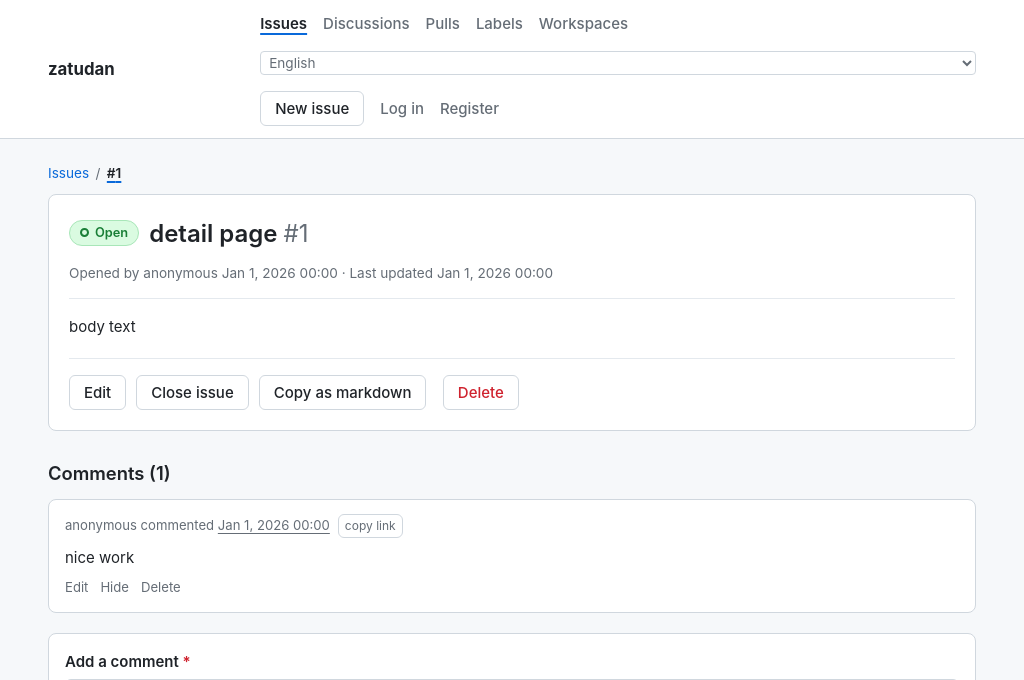
route: /issues/$issueId › shows issue and comments, then posts a status change
This screenshot has width=1024, height=680.
expect the heading "detail page #1" is shown: met, box [149,215,309,252]
expect the text "nice work" is shown: met, box [65,548,134,567]
Click the button "Close issue" at (192, 392), box [136,375,249,410]
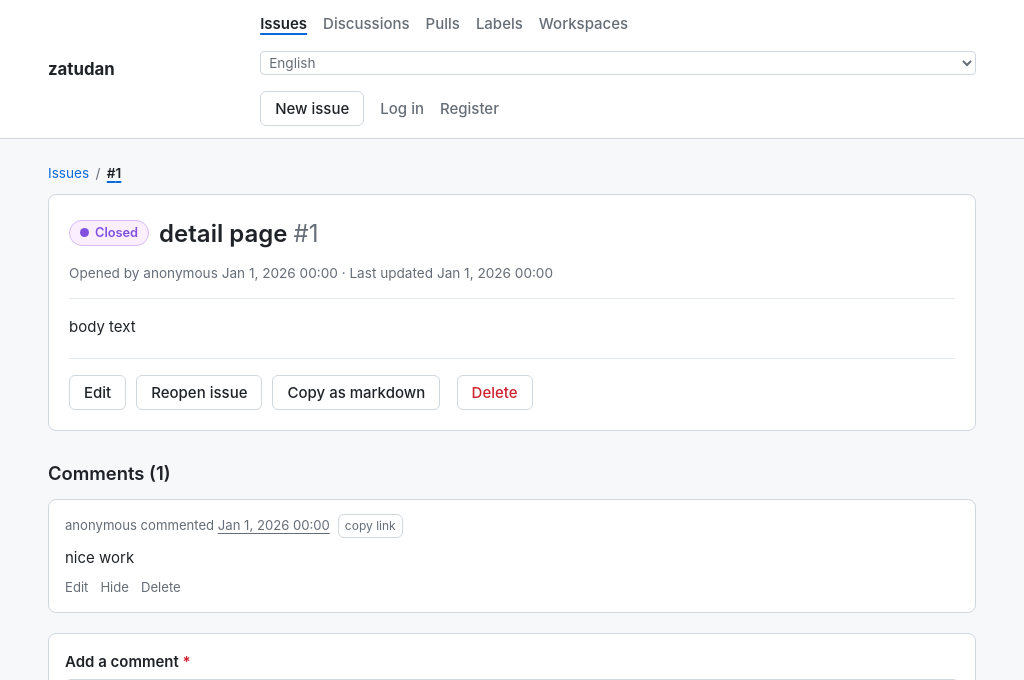
expect the button "Reopen issue" is shown: met, box [136,375,262,410]
